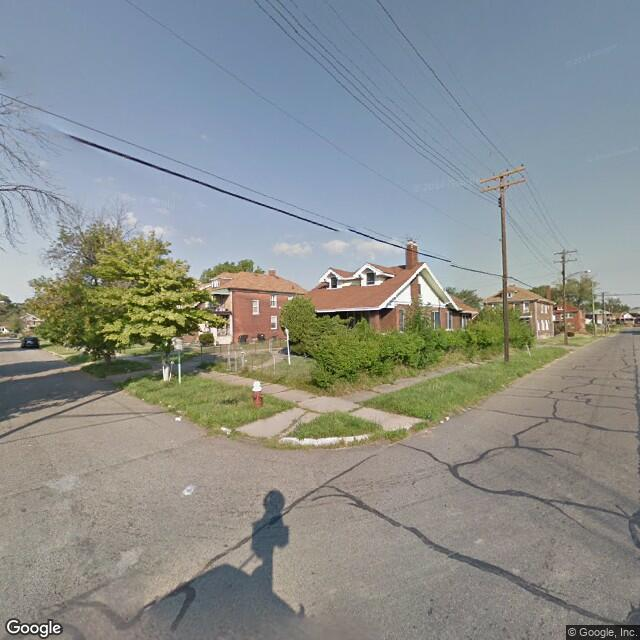litter: (431, 410, 454, 425), (166, 413, 189, 425)
